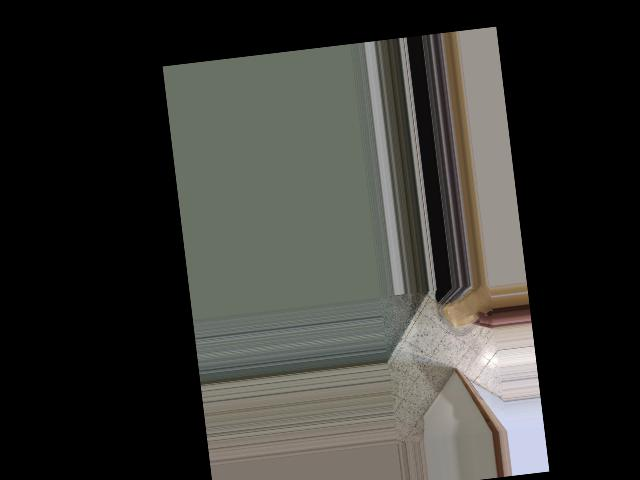cheese: (436, 282, 496, 337)
